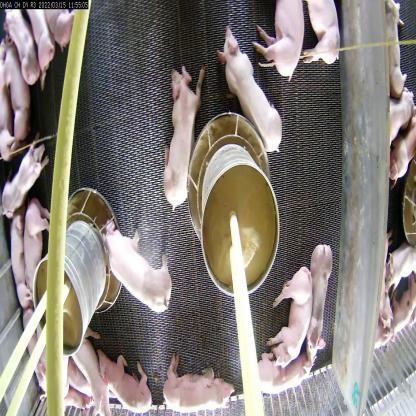Pig: (216, 14, 283, 161), (101, 207, 172, 324), (162, 62, 207, 223), (268, 264, 313, 377), (163, 348, 237, 416), (94, 337, 152, 415), (2, 132, 52, 214), (305, 234, 334, 367), (20, 198, 54, 309), (383, 0, 411, 105)
